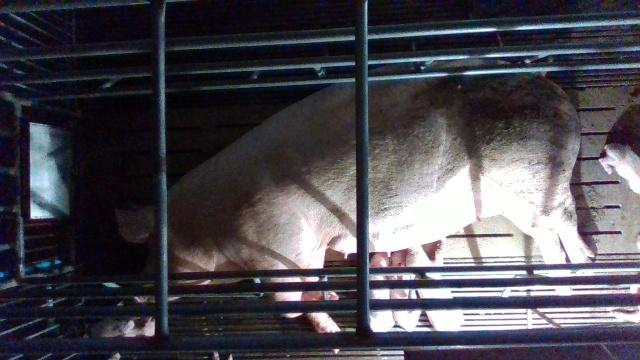piglet: (405, 247, 465, 332), (84, 300, 155, 338), (389, 251, 422, 331), (366, 252, 396, 332), (600, 142, 640, 195)
sow-sleep-lactate: (113, 59, 594, 356)
